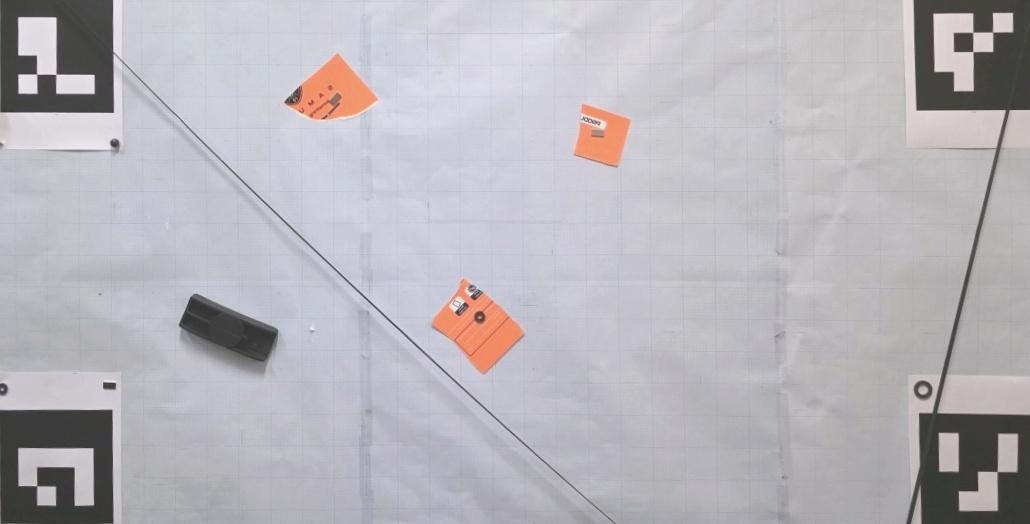obstacle: (432, 279, 525, 375), (178, 293, 278, 362), (283, 55, 378, 122), (573, 104, 632, 168)
